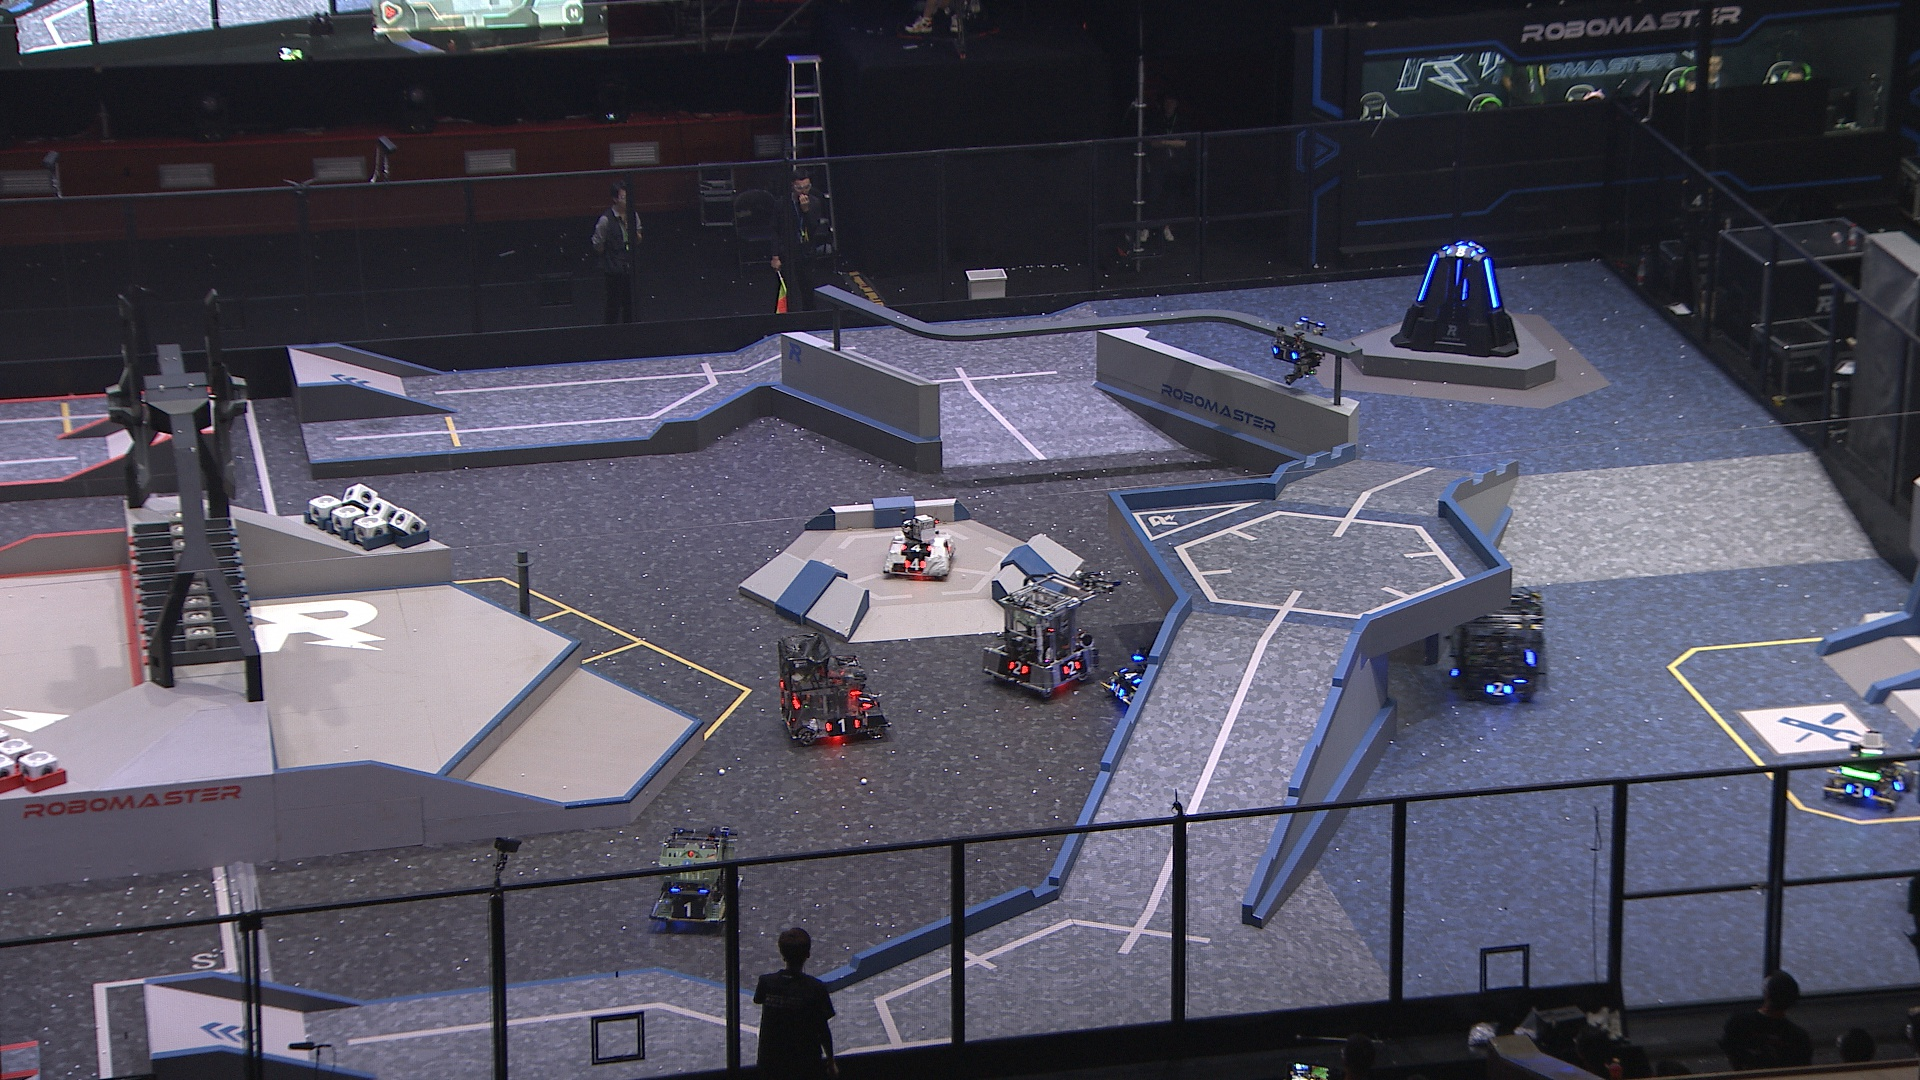armor: (1416, 252, 1439, 305), (1481, 257, 1501, 310), (669, 898, 705, 920), (823, 717, 861, 736), (1484, 680, 1515, 699), (1443, 244, 1480, 258), (1273, 344, 1300, 363), (1845, 782, 1871, 799), (1005, 659, 1031, 676), (901, 541, 934, 553), (1109, 680, 1127, 702), (902, 556, 928, 571), (1120, 669, 1143, 684), (1062, 659, 1083, 676), (1452, 258, 1462, 291), (855, 694, 873, 711), (1894, 771, 1908, 793), (783, 708, 796, 727), (1461, 280, 1470, 301)
base: (1389, 239, 1519, 361)
car: (978, 584, 1096, 700), (773, 633, 891, 746), (1448, 589, 1548, 708), (646, 825, 744, 930), (1820, 731, 1916, 812), (1100, 644, 1185, 713), (882, 513, 956, 583)
watcher: (1269, 314, 1329, 384)
